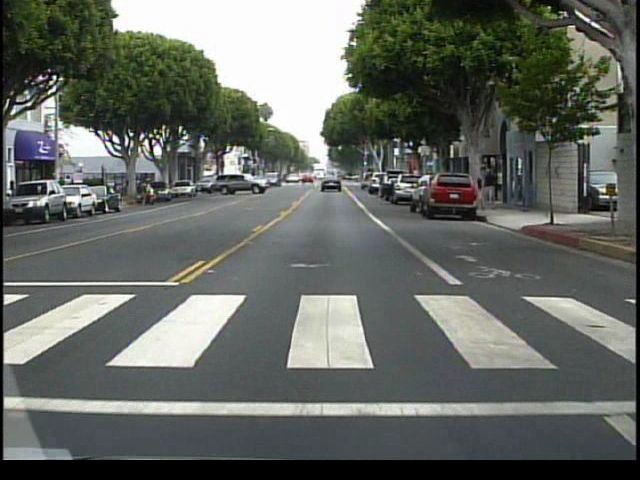person: (477, 169, 498, 210), (139, 177, 156, 209)
